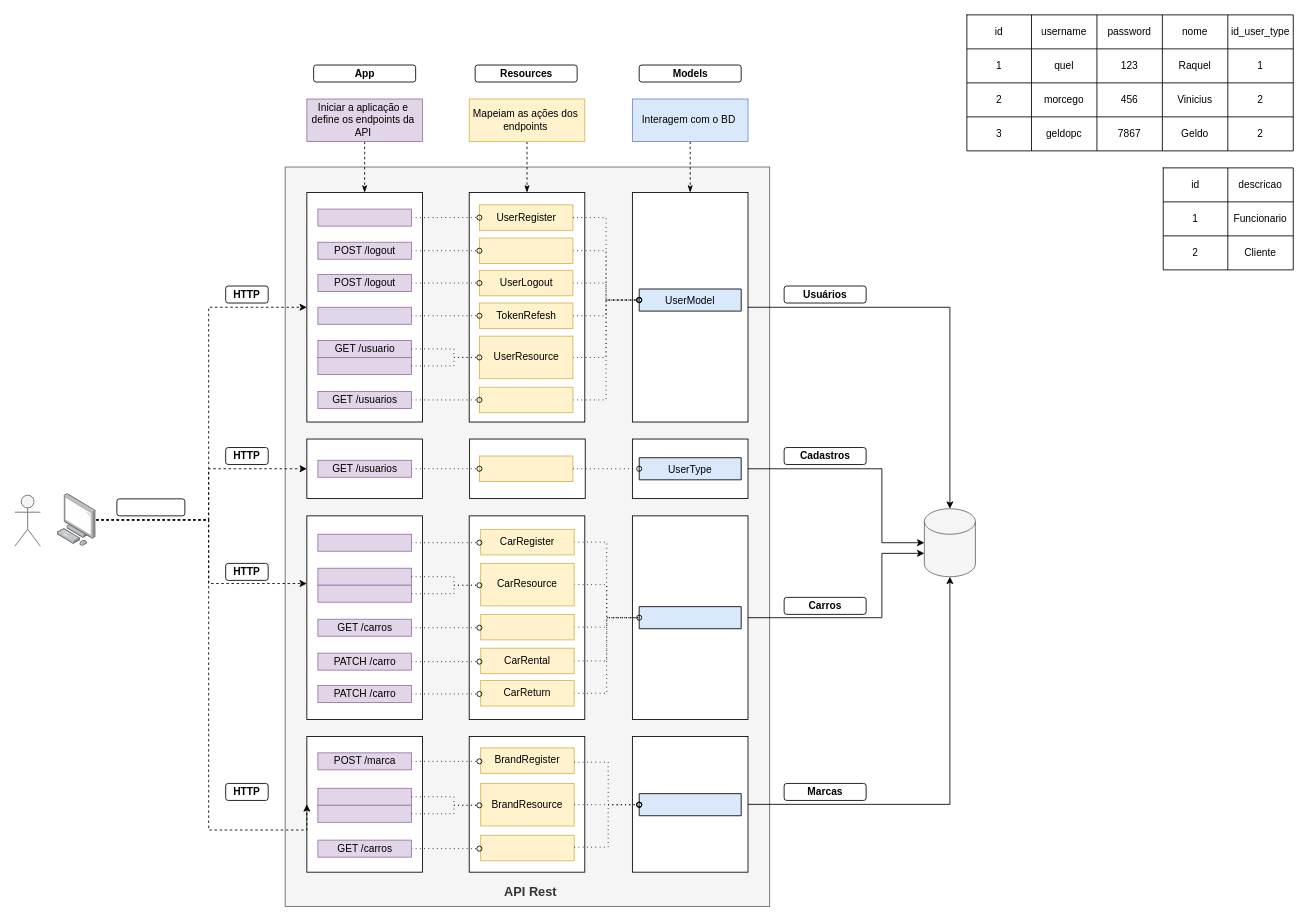
The diagram is 1308 pixels wide and 921 high, and some of its shapes have lost their labels. The shapes that lost their labels are listed below. From the top down, each one's centre as x and y in pixels, then its label:
At pixel 364 217: "POST /usuario".
At pixel 526 250: "UserLogin".
At pixel 364 315: "POST /refersh".
At pixel 364 365: "DEL /usuario".
At pixel 526 399: "UserList".
At pixel 526 468: "UserTypeList".
At pixel 27 520: "Actor".
At pixel 150 507: "Request".
At pixel 364 542: "POST /carro".
At pixel 949 542: "Database".
At pixel 364 576: "GET /carro".
At pixel 364 593: "DEL /carro".
At pixel 527 627: "CarList".
At pixel 689 617: "CarModel".
At pixel 364 796: "GET /marca".
At pixel 364 813: "DEL /marca".
At pixel 689 804: "CarBrand".
At pixel 527 847: "BrandList".
